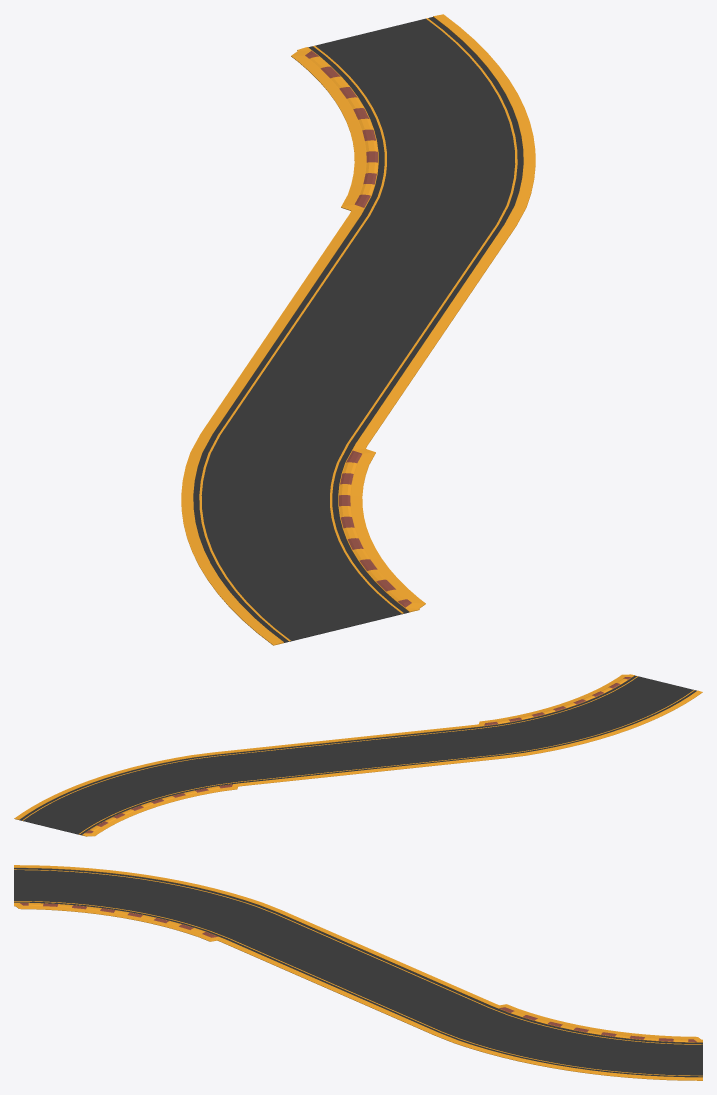
The model's file is SM_Racetrack_RunOff_Curb_Shift_80x100m.fbx.
3 renders of one model, top to bottom at view 1: azimuth 30°, elevation 25°; view 2: azimuth 150°, elevation 25°; view 3: azimuth 270°, elevation 25°, orthographic. The views are drawn at different scales.
Parts seen in each view (by area): view 1: SM_Racetrack_RunOff_Curb_Shift_80x100m; view 2: SM_Racetrack_RunOff_Curb_Shift_80x100m; view 3: SM_Racetrack_RunOff_Curb_Shift_80x100m.
Part boxes in pixels (x1,y1,x2,y2): SM_Racetrack_RunOff_Curb_Shift_80x100m: (181,14,535,645); SM_Racetrack_RunOff_Curb_Shift_80x100m: (14,674,702,836); SM_Racetrack_RunOff_Curb_Shift_80x100m: (14,865,702,1080).
Size of the model in its own units: 74 by 0.15 by 100.
